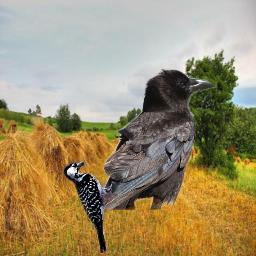Crow: (93, 68, 217, 210)
Woodpecker: (63, 159, 112, 253)
